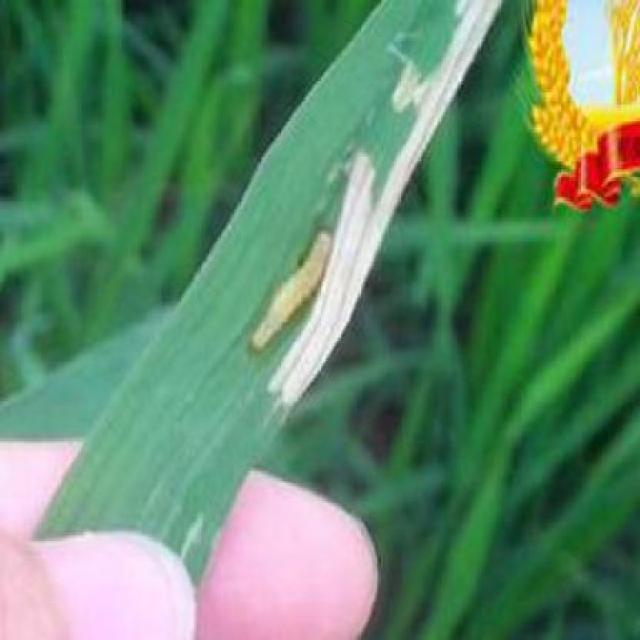leaf-folder: (250, 204, 347, 351)
